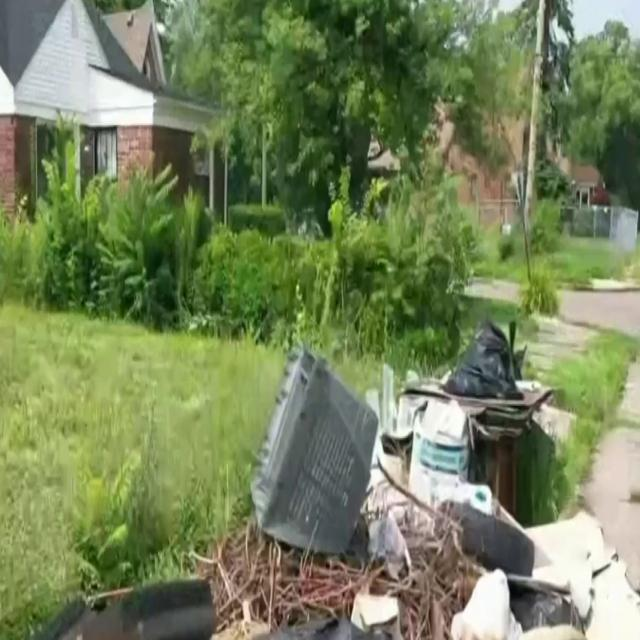House: (0, 1, 234, 260)
